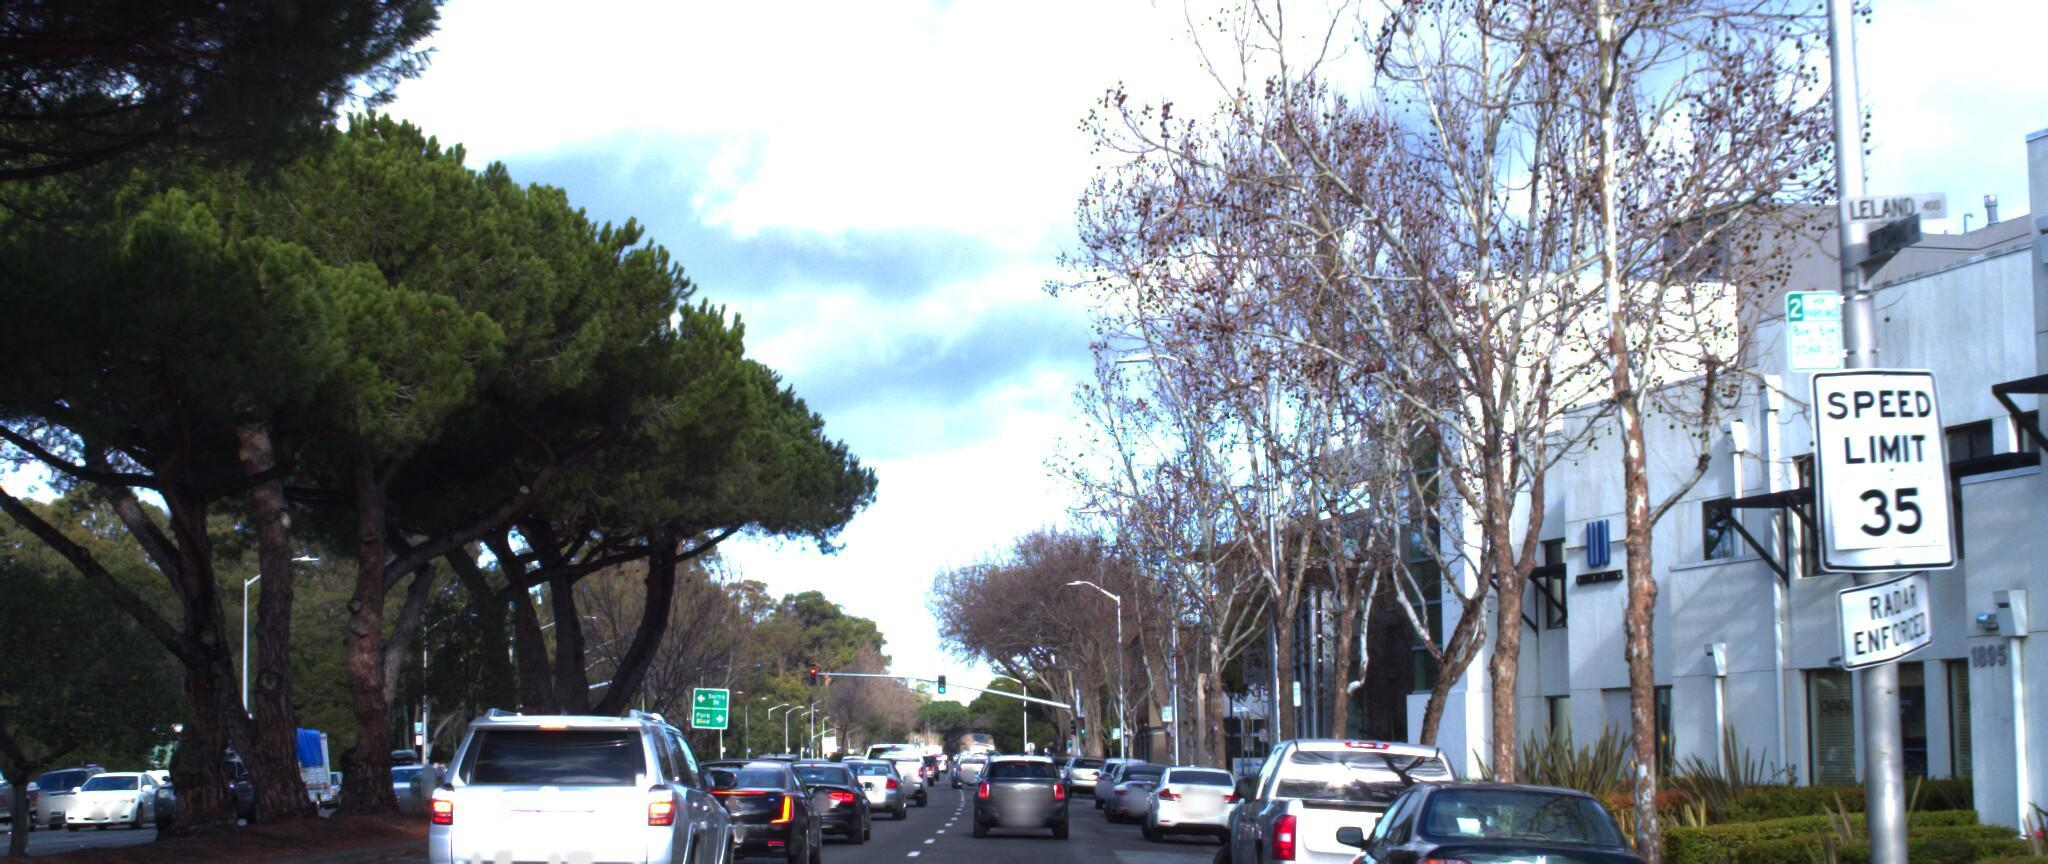car: (413, 696, 758, 864), (1209, 713, 1511, 864), (1311, 756, 1691, 864), (666, 754, 835, 864), (1132, 747, 1253, 834), (767, 764, 886, 848), (57, 757, 182, 827), (963, 743, 1063, 829), (846, 731, 938, 799), (1091, 750, 1183, 814), (0, 748, 47, 833)
